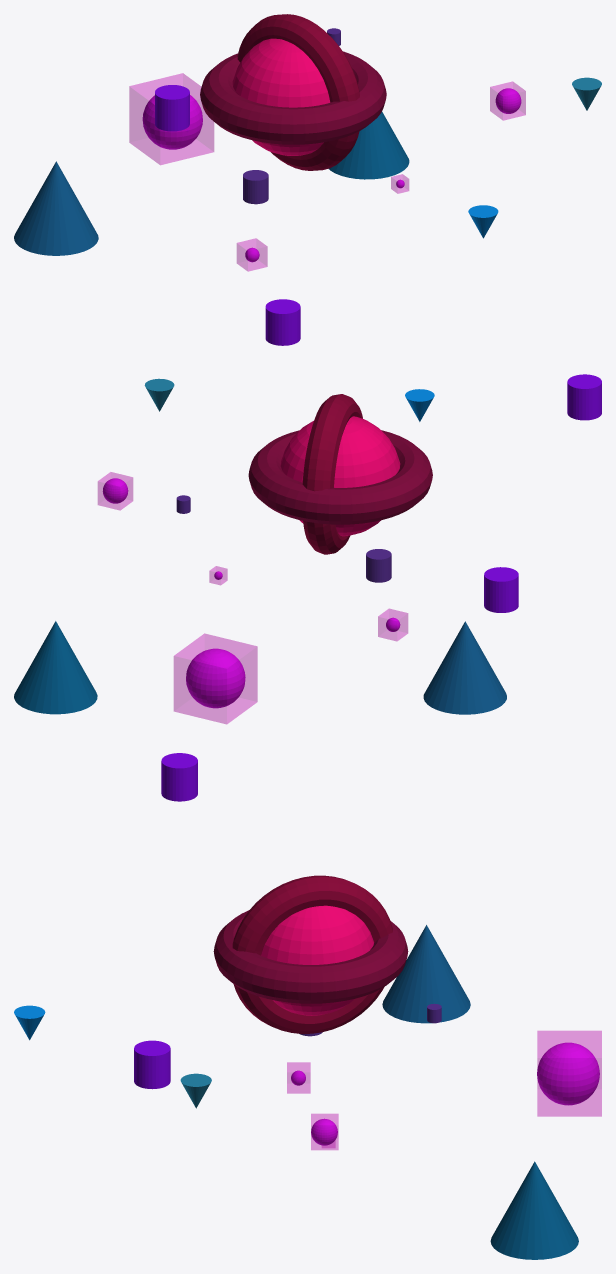
Rendered from modelo.glb.
3 renders of one model, top to bottom at view 1: azimuth 30°, elevation 25°; view 2: azimuth 150°, elevation 25°; view 3: azimuth 270°, elevation 25°, orthographic. The views are drawn at different scales.
Parts seen in each view (by area): view 1: Torus, Torus.001, Sphere.003, Cube, Cone, Cone.001, Cylinder.002, Sphere, Cylinder.003, Cube.003, Cube.001, Cylinder (+3 smaller); view 2: Torus, Cube, Sphere.003, Cone.001, Cone, Torus.001, Sphere, Cylinder.003, Cylinder.002, Cube.003, Cylinder, Cube.001 (+3 smaller); view 3: Torus.001, Torus, Sphere.003, Cube, Cone.001, Cone, Sphere, Cylinder.003, Cylinder.002, Cube.003, Cube.001.
Boxes of the visible parts, x1,y1,x2,y2 form: Torus: [200, 51, 386, 144]; Torus.001: [237, 14, 359, 170]; Sphere.003: [232, 38, 330, 155]; Cube: [129, 73, 213, 164]; Cone: [14, 161, 98, 255]; Cone.001: [328, 111, 409, 179]; Cylinder.002: [265, 299, 300, 345]; Sphere: [142, 95, 202, 149]; Cylinder.003: [155, 85, 189, 131]; Cube.003: [490, 81, 525, 120]; Cube.001: [237, 238, 267, 271]; Cylinder: [243, 170, 268, 204]; Torus: [248, 430, 432, 524]; Cube: [174, 633, 257, 724]; Sphere.003: [280, 416, 400, 536]; Cone.001: [14, 621, 97, 714]; Cone: [423, 621, 506, 714]; Torus.001: [302, 394, 362, 554]; Sphere: [186, 648, 245, 708]; Cylinder.003: [567, 374, 601, 420]; Cylinder.002: [484, 567, 518, 612]; Cube.003: [98, 472, 132, 510]; Cylinder: [366, 549, 391, 582]; Cube.001: [378, 608, 407, 641]; Torus.001: [232, 875, 392, 1033]; Torus: [213, 910, 408, 1003]; Sphere.003: [261, 905, 373, 1015]; Cube: [537, 1031, 601, 1116]; Cone.001: [490, 1161, 578, 1259]; Cone: [382, 925, 470, 1023]; Sphere: [537, 1042, 599, 1105]; Cylinder.003: [161, 753, 197, 801]; Cylinder.002: [134, 1040, 170, 1089]; Cube.003: [311, 1114, 338, 1149]; Cube.001: [287, 1062, 310, 1093].
Bounding box in the file's own units: 326 × 188 × 339.
